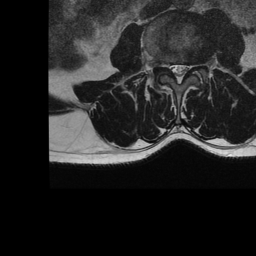CCS_normal: (176, 60, 182, 88)
LFS_severe_stenosis: (190, 59, 196, 75)
LLS_stenosis: (182, 59, 189, 78)
RFS_stenosis: (163, 58, 170, 73)
RLS_normal: (169, 60, 176, 78)
